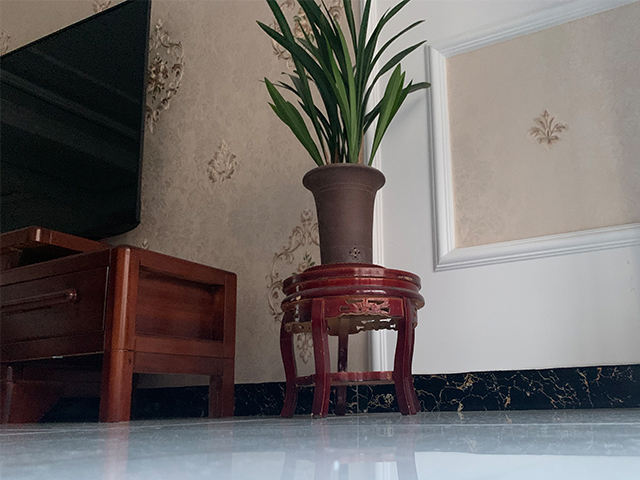cabinet: (1, 224, 238, 424)
stool: (277, 261, 430, 420)
